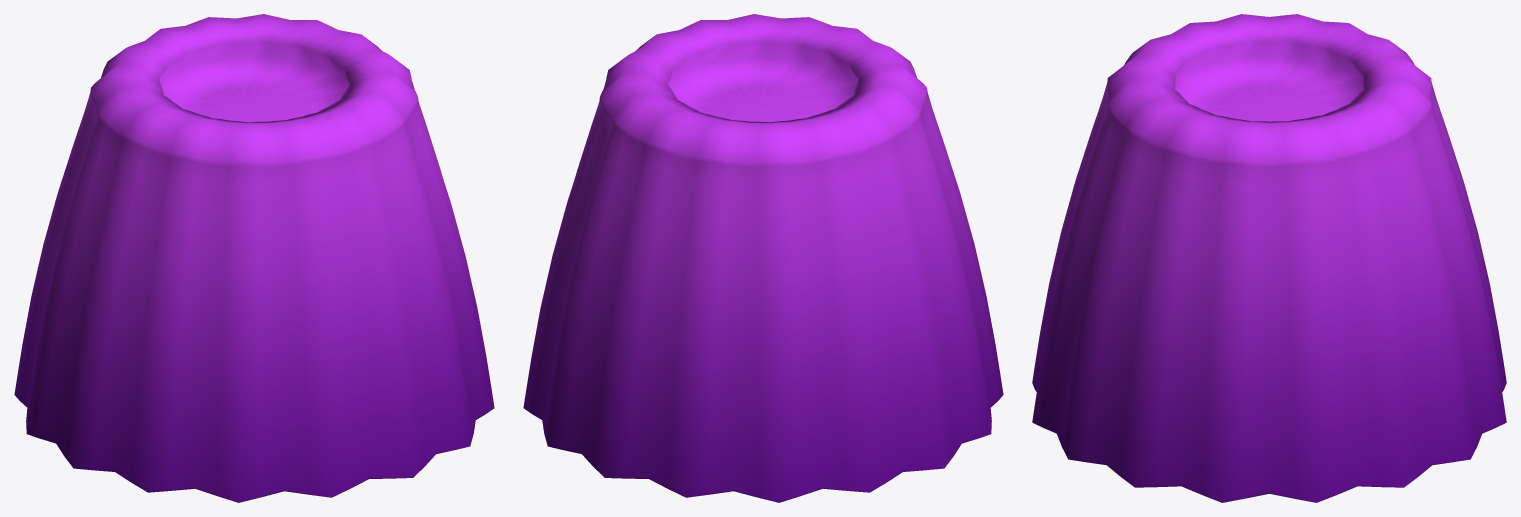
File: Jöle.fbx
3 renders of one model, left to right at view 1: azimuth 30°, elevation 25°; view 2: azimuth 150°, elevation 25°; view 3: azimuth 270°, elevation 25°, orthographic.
Visible parts, largest first — view 1: Cylinder; view 2: Cylinder; view 3: Cylinder.
Part boxes in pixels (<box>): Cylinder: <box>14,14,494,502</box>; Cylinder: <box>523,14,1003,502</box>; Cylinder: <box>1032,14,1506,502</box>.
Size of the model in its own units: 246 by 188 by 246.
